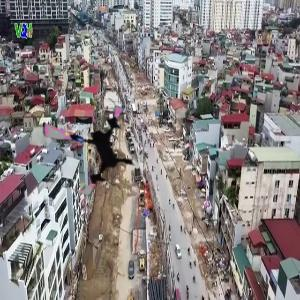drone: (39, 94, 146, 201)
